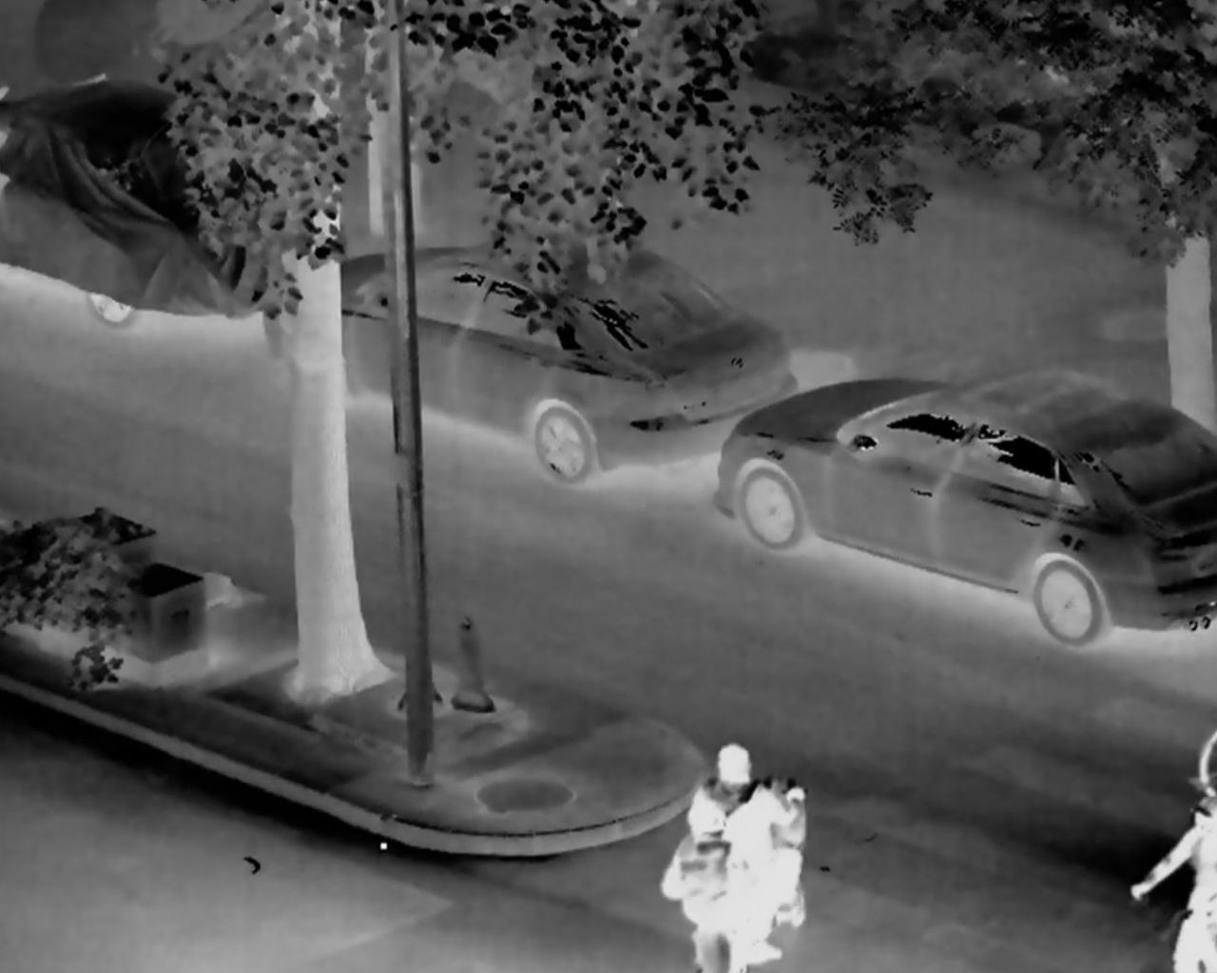person: (674, 728, 804, 973), (1143, 752, 1212, 973)
